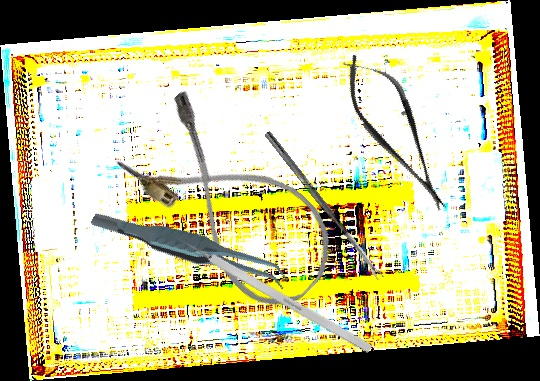Cannula: (110, 84, 354, 325)
Hook Surgical: (172, 232, 373, 354)
Micro Scissor: (330, 42, 464, 224)
Surgical Spoon: (263, 130, 384, 282)
Tissue Forceps: (89, 172, 293, 325)
